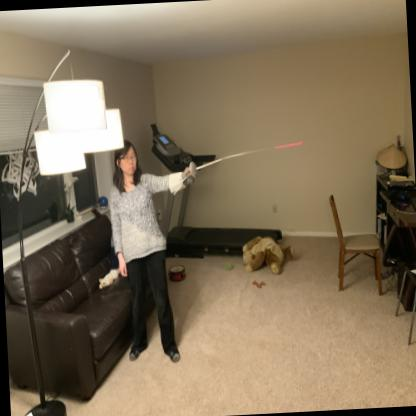foil-tip: (290, 132, 310, 155)
hand-and-foil: (164, 124, 320, 200)
